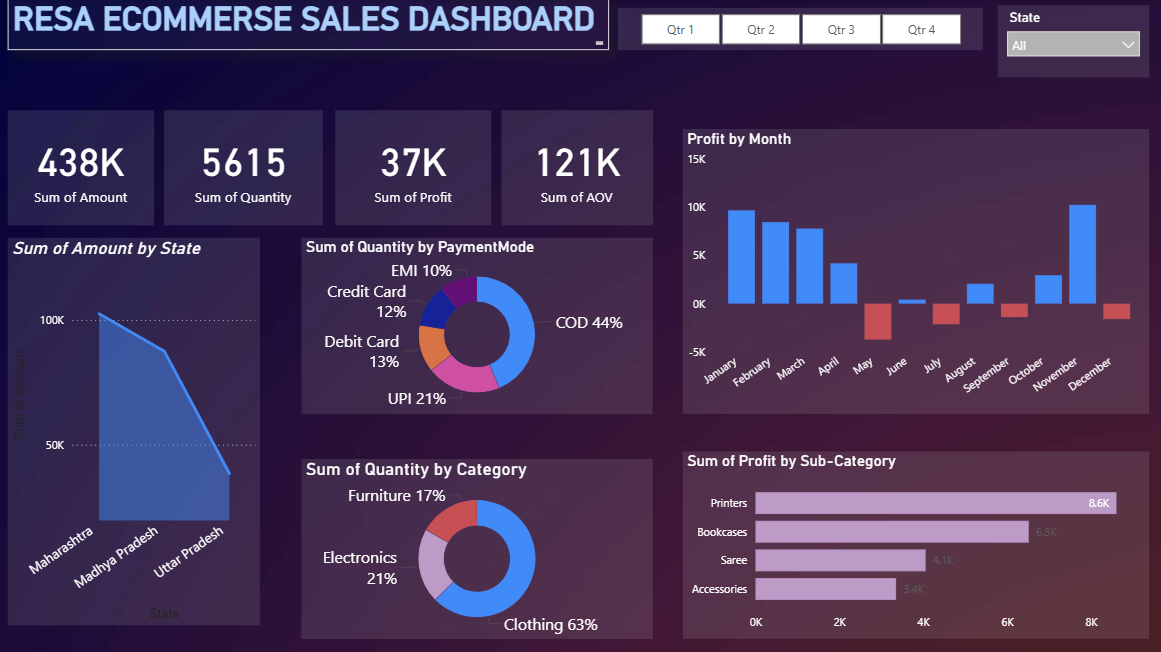

The page's visual inventory and layout, read from the dashboard file:
{"tool":"powerbi","page":{"name":"Page 1","canvas":[1280,720],"ordinal":0},"visuals":[{"type":"textbox","title":"RESA ECOMMERSE SALES DASHBOARD","box":[9.6,0,660,56.3],"z":0},{"type":"columnChart","title":" Profit by Month","fields":{"Y":["Sum(Details.Profit)"],"Category":["Orders.Order Date.Variation.Date Hierarchy.Month"]},"box":[750.6,142.7,511.8,312.9],"z":1000},{"type":"barChart","fields":{"Category":["Details.Sub-Category"],"Y":["Sum(Details.Profit)"]},"box":[750.6,496.7,511.8,205.8],"z":2000},{"type":"donutChart","fields":{"Category":["Details.Category"],"Y":["Sum(Details.Quantity)"]},"box":[332.1,505,385.6,197.6],"z":3000},{"type":"donutChart","fields":{"Category":["Details.PaymentMode"],"Y":["Sum(Details.Quantity)"]},"box":[332.1,262.1,385.6,193.5],"z":4000},{"type":"card","fields":{"Values":["Sum(Details.Amount)"]},"box":[9.6,122.1,160.5,126.2],"z":5000},{"type":"card","fields":{"Values":["Sum(Details.Quantity)"]},"box":[181.1,122.1,174.3,126.2],"z":6000},{"type":"card","fields":{"Values":["Sum(Details.Profit)"]},"box":[369.1,122.1,171.5,126.2],"z":7000},{"type":"card","fields":{"Values":["Sum(Details.AOV)"]},"box":[551.6,122.1,166,126.2],"z":8000},{"type":"stackedAreaChart","fields":{"Y":["Sum(Details.Amount)"],"Category":["Orders.State"]},"box":[9.6,262.1,277.2,425.4],"z":9000},{"type":"slicer","fields":{"Values":["Orders.Order Date.Variation.Date Hierarchy.Quarter"]},"box":[679.2,9.6,400.7,46.7],"z":10000},{"type":"slicer","fields":{"Values":["Orders.State"]},"box":[1096.4,6.9,166,79.6],"z":11000}]}

Visuals, with their boxes in screenshot pixels (x1, y1, x2, y2), scaled from the page's 1280x720 canvas onto the 1161x652 screenshot:
"RESA ECOMMERSE SALES DASHBOARD" textbox: [9,0,607,51]
" Profit by Month" columnChart: [681,129,1145,413]
barChart - Details.Sub-Category x Sum(Details.Profit): [681,450,1145,636]
donutChart - Details.Category x Sum(Details.Quantity): [301,457,651,636]
donutChart - Details.PaymentMode x Sum(Details.Quantity): [301,237,651,413]
card - Sum(Details.Amount): [9,111,154,225]
card - Sum(Details.Quantity): [164,111,322,225]
card - Sum(Details.Profit): [335,111,490,225]
card - Sum(Details.AOV): [500,111,651,225]
stackedAreaChart - Sum(Details.Amount) x Orders.State: [9,237,260,623]
slicer - Orders.Order Date.Variation.Date Hierarchy.Quarter: [616,9,980,51]
slicer - Orders.State: [994,6,1145,78]
